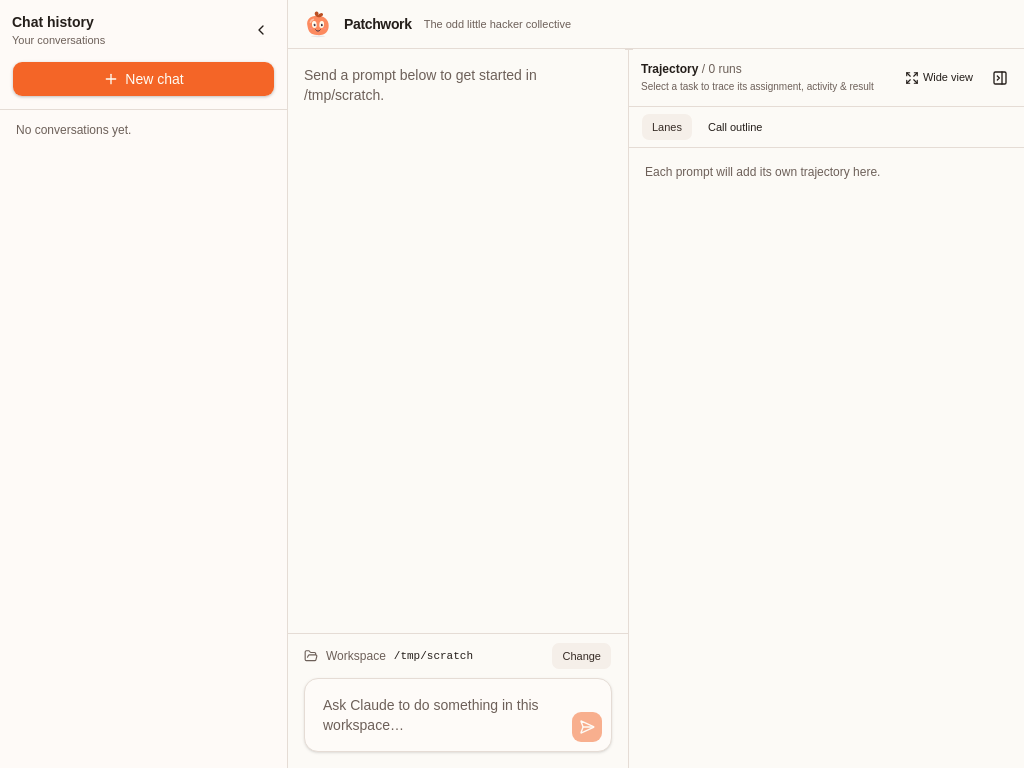
it: App › lets the trajectory outline collapse and reopen
This screenshot has width=1024, height=768.
Expected: the text "Send a prompt below to get started in /tmp/scratch." is shown, [304,67,537,103]
What coordinates should you click on to do the following:
click the button named "Hide trajectory"
I would click on:
 (1000, 78)
Its box is [988,66,1012,90].
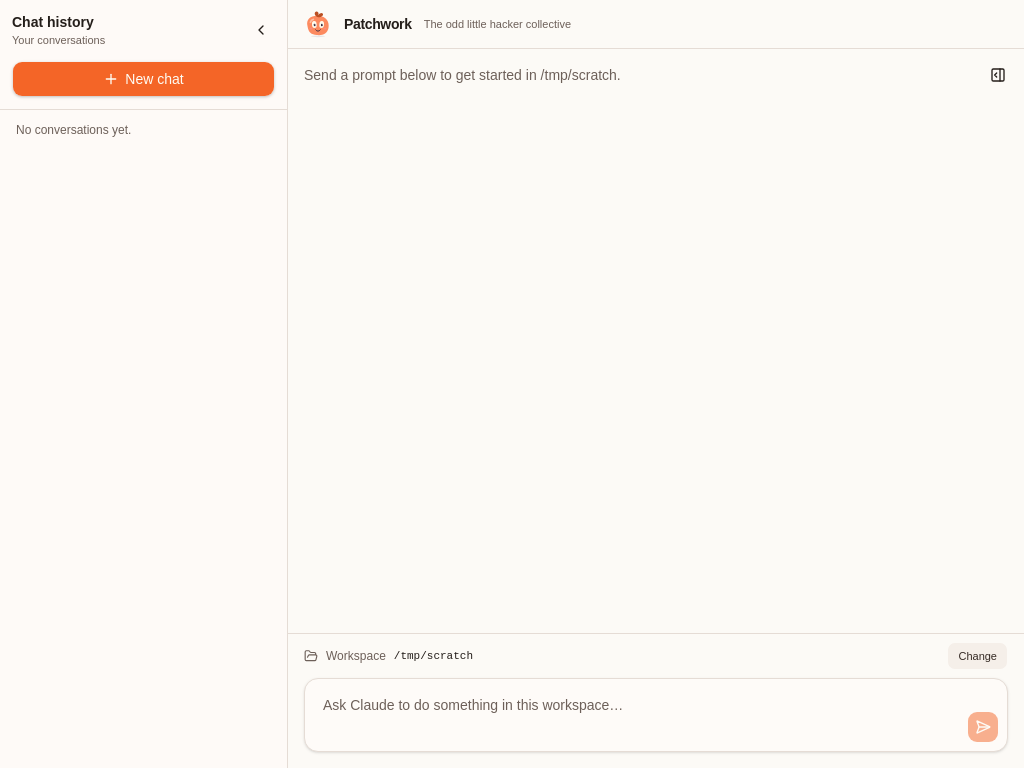
Now the button named "Show trajectory" is shown
What coordinates should you click on to do the following:
click the button named "Show trajectory"
I would click on:
 (998, 75)
Its box is [984,61,1012,89].
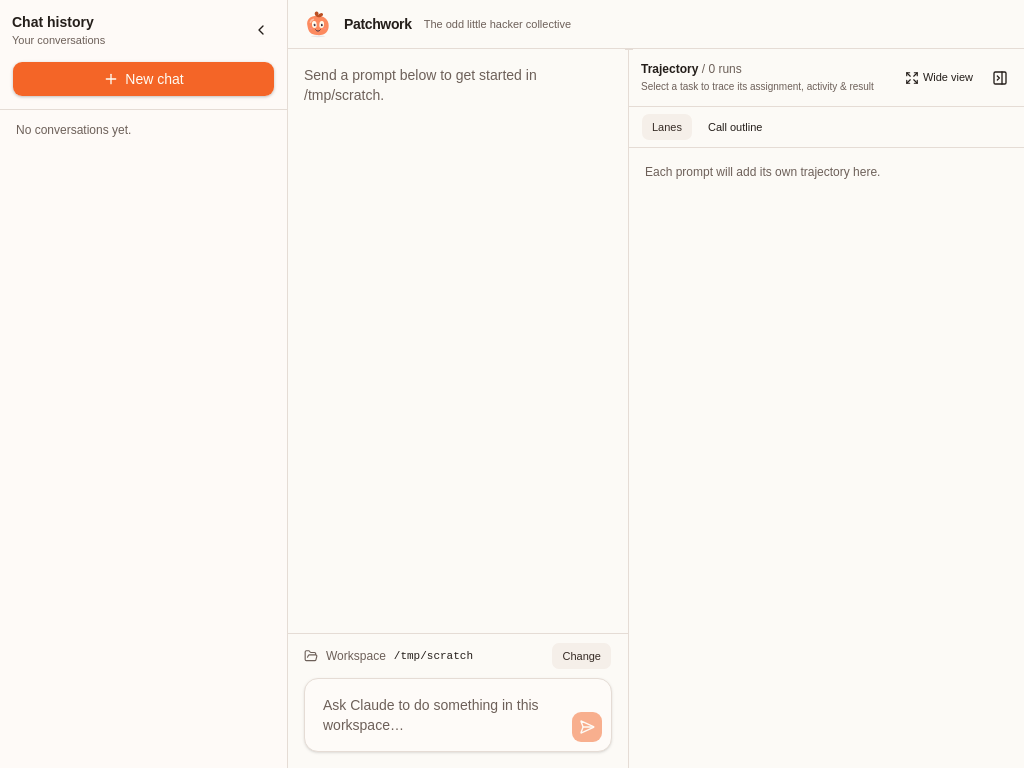
Now the button named "Hide trajectory" is shown, box [988,66,1012,90]
